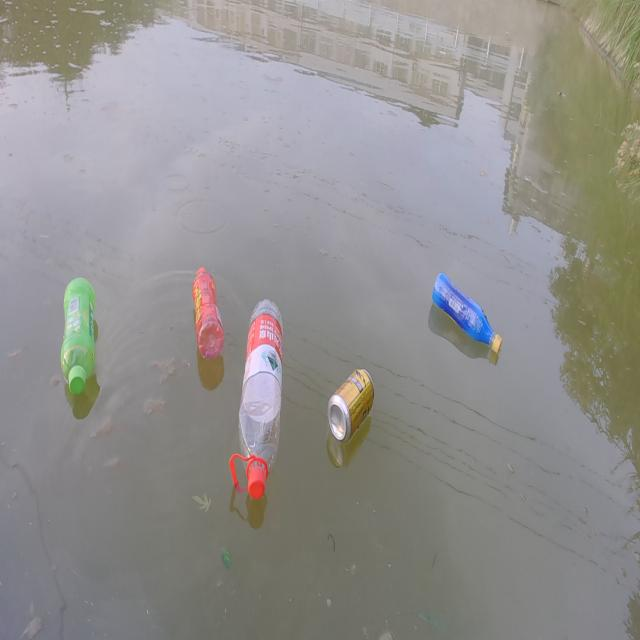Bottle: (228, 288, 284, 501), (431, 268, 506, 358), (60, 273, 96, 401), (190, 260, 226, 362)
Can: (322, 360, 377, 444)
